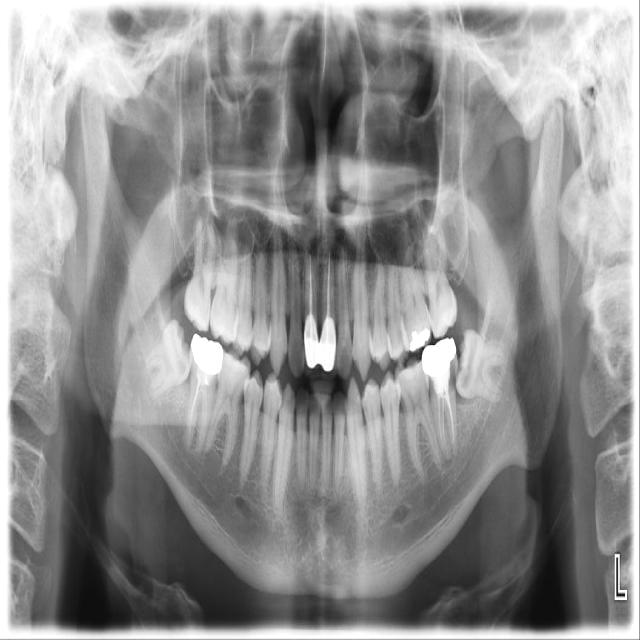Crown: (422, 338, 458, 393), (189, 333, 223, 388), (302, 313, 320, 379), (320, 316, 338, 380)
Filling: (410, 329, 430, 351)
Root Canal Treatment: (186, 384, 201, 447), (194, 388, 205, 448), (448, 395, 457, 453), (439, 397, 447, 454), (327, 255, 331, 315), (310, 258, 314, 312)
impacted tooth: (456, 330, 510, 402), (144, 317, 189, 402)
